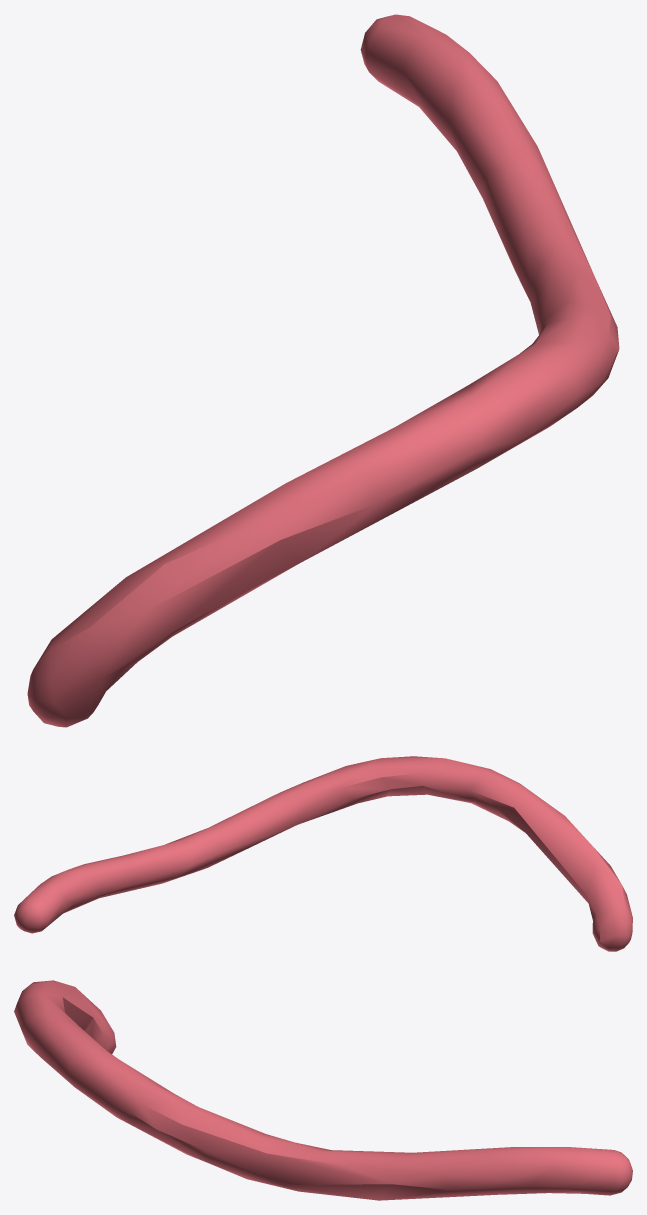
Rendered from fma50575_fj1726m.glb.
3 views of the same model, one above another, from view 1: azimuth 30°, elevation 25°; view 2: azimuth 150°, elevation 25°; view 3: azimuth 270°, elevation 25° (orthographic). The views are drawn at different scales.
Visible parts, largest first — view 1: FMA50575_FJ1726M; view 2: FMA50575_FJ1726M; view 3: FMA50575_FJ1726M.
Part boxes in pixels (left/top/right/bottom): FMA50575_FJ1726M: left=27, top=14, right=619, bottom=727; FMA50575_FJ1726M: left=14, top=756, right=632, bottom=951; FMA50575_FJ1726M: left=14, top=980, right=632, bottom=1200.
Size of the model in its own units: 0.0221 by 0.0069 by 0.0233.
